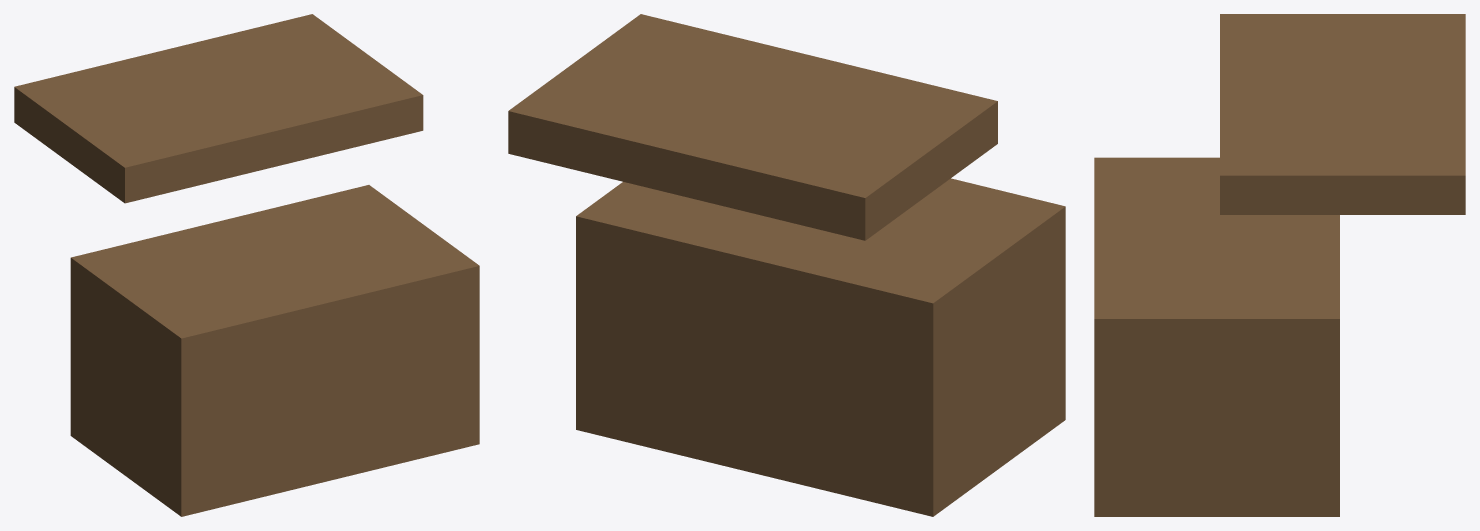
The model's file is chest-open.glb.
The picture shows the model from 3 angles, left to right: view 1: azimuth 30°, elevation 25°; view 2: azimuth 150°, elevation 25°; view 3: azimuth 270°, elevation 25°; orthographic projection. The views are drawn at different scales.
Visible parts, largest first — view 1: chest-open; view 2: chest-open; view 3: chest-open.
Boxes of the visible parts, x1,y1,x2,y2 form: chest-open: [14, 14, 479, 516]; chest-open: [508, 14, 1065, 516]; chest-open: [1094, 14, 1465, 516].
Bounding box in the file's own units: 0.7 × 0.69 × 0.68.
